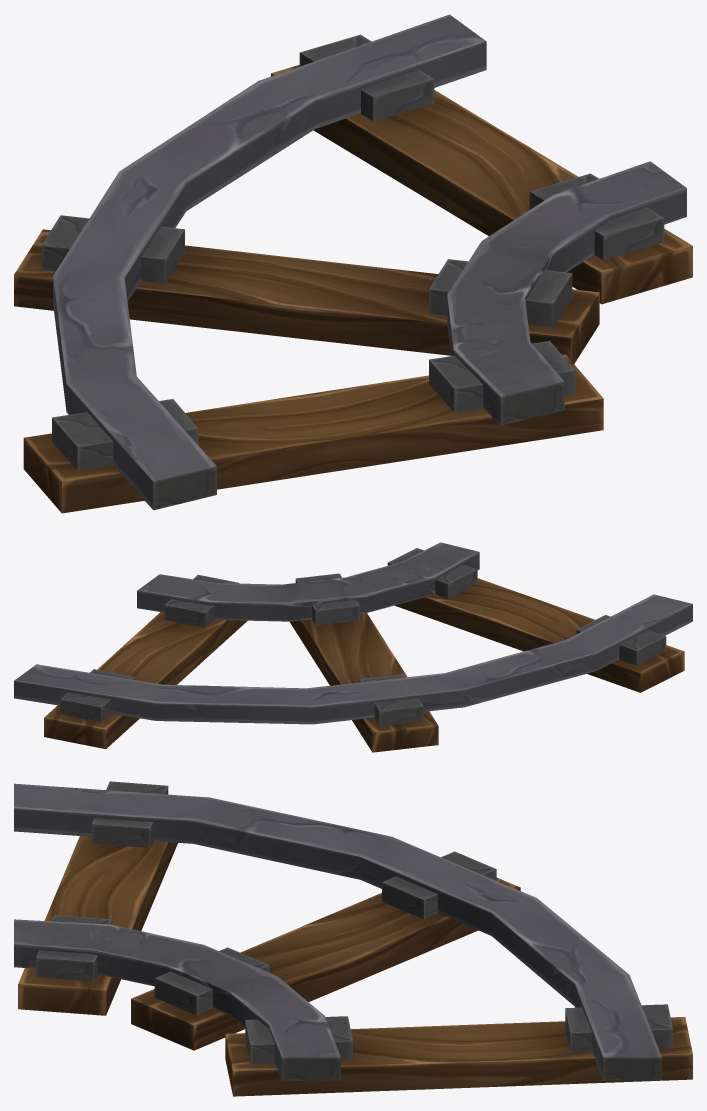
The model's file is Railway_3.FBX.
3 renders of one model, top to bottom at view 1: azimuth 30°, elevation 25°; view 2: azimuth 150°, elevation 25°; view 3: azimuth 270°, elevation 25°, orthographic. The views are drawn at different scales.
Parts seen in each view (by area): view 1: Railway_3; view 2: Railway_3; view 3: Railway_3.
Boxes of the visible parts, box(x1,y1,x2,y2) form: Railway_3: box(14, 14, 692, 513); Railway_3: box(14, 542, 692, 752); Railway_3: box(14, 781, 692, 1096).
Size of the model in its own units: 1493 by 117 by 1482.
